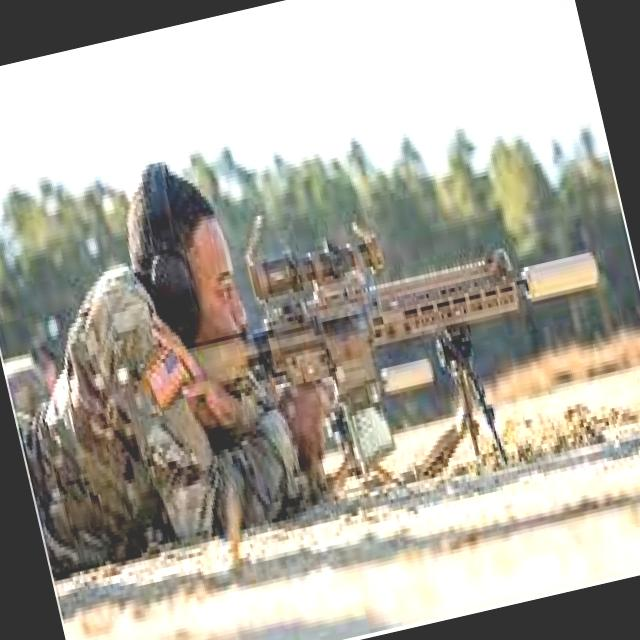rifle: (159, 148, 640, 489)
